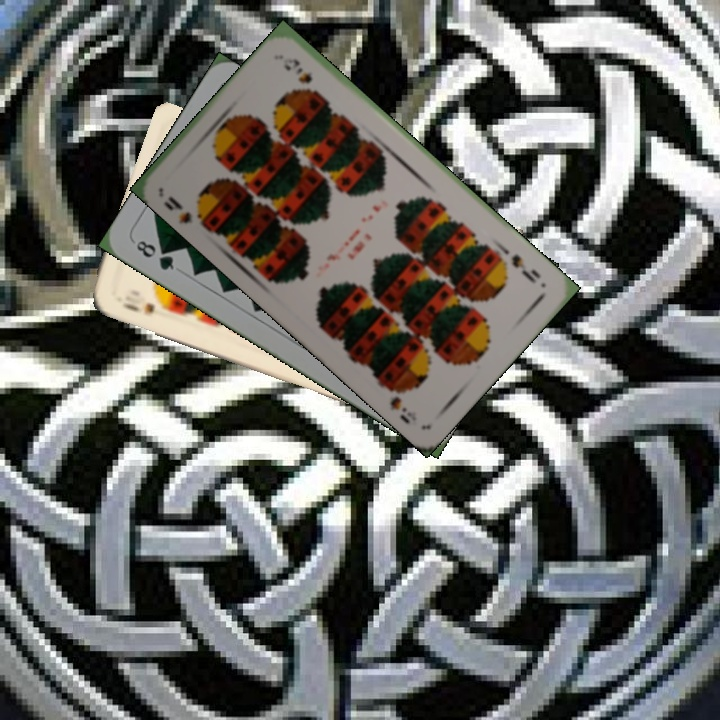G8: (132, 236, 177, 273)
S10: (118, 299, 158, 318)
S9: (159, 192, 209, 231), (507, 250, 544, 286)
